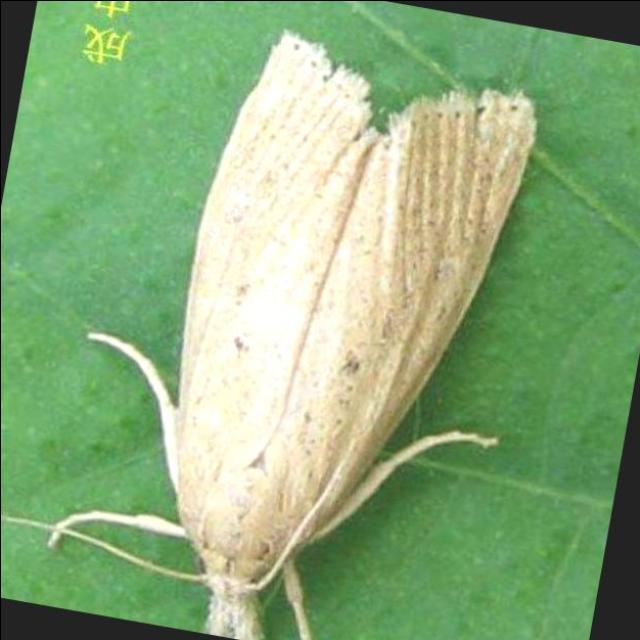stem borer: (51, 33, 535, 640)
